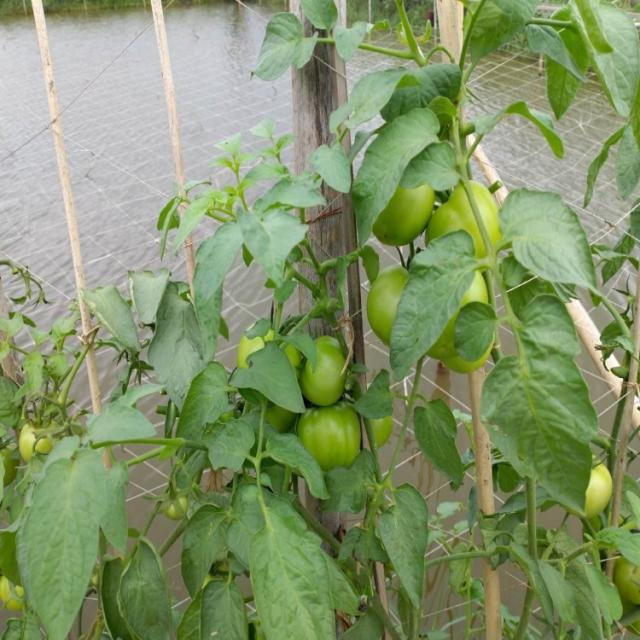tomato: (369, 269, 497, 367), (436, 183, 503, 263), (379, 181, 436, 251), (300, 408, 363, 470), (18, 422, 95, 469), (240, 322, 303, 376), (307, 337, 355, 404), (585, 460, 612, 517), (613, 554, 640, 611), (164, 495, 193, 522), (1, 441, 20, 480), (3, 583, 26, 611)
